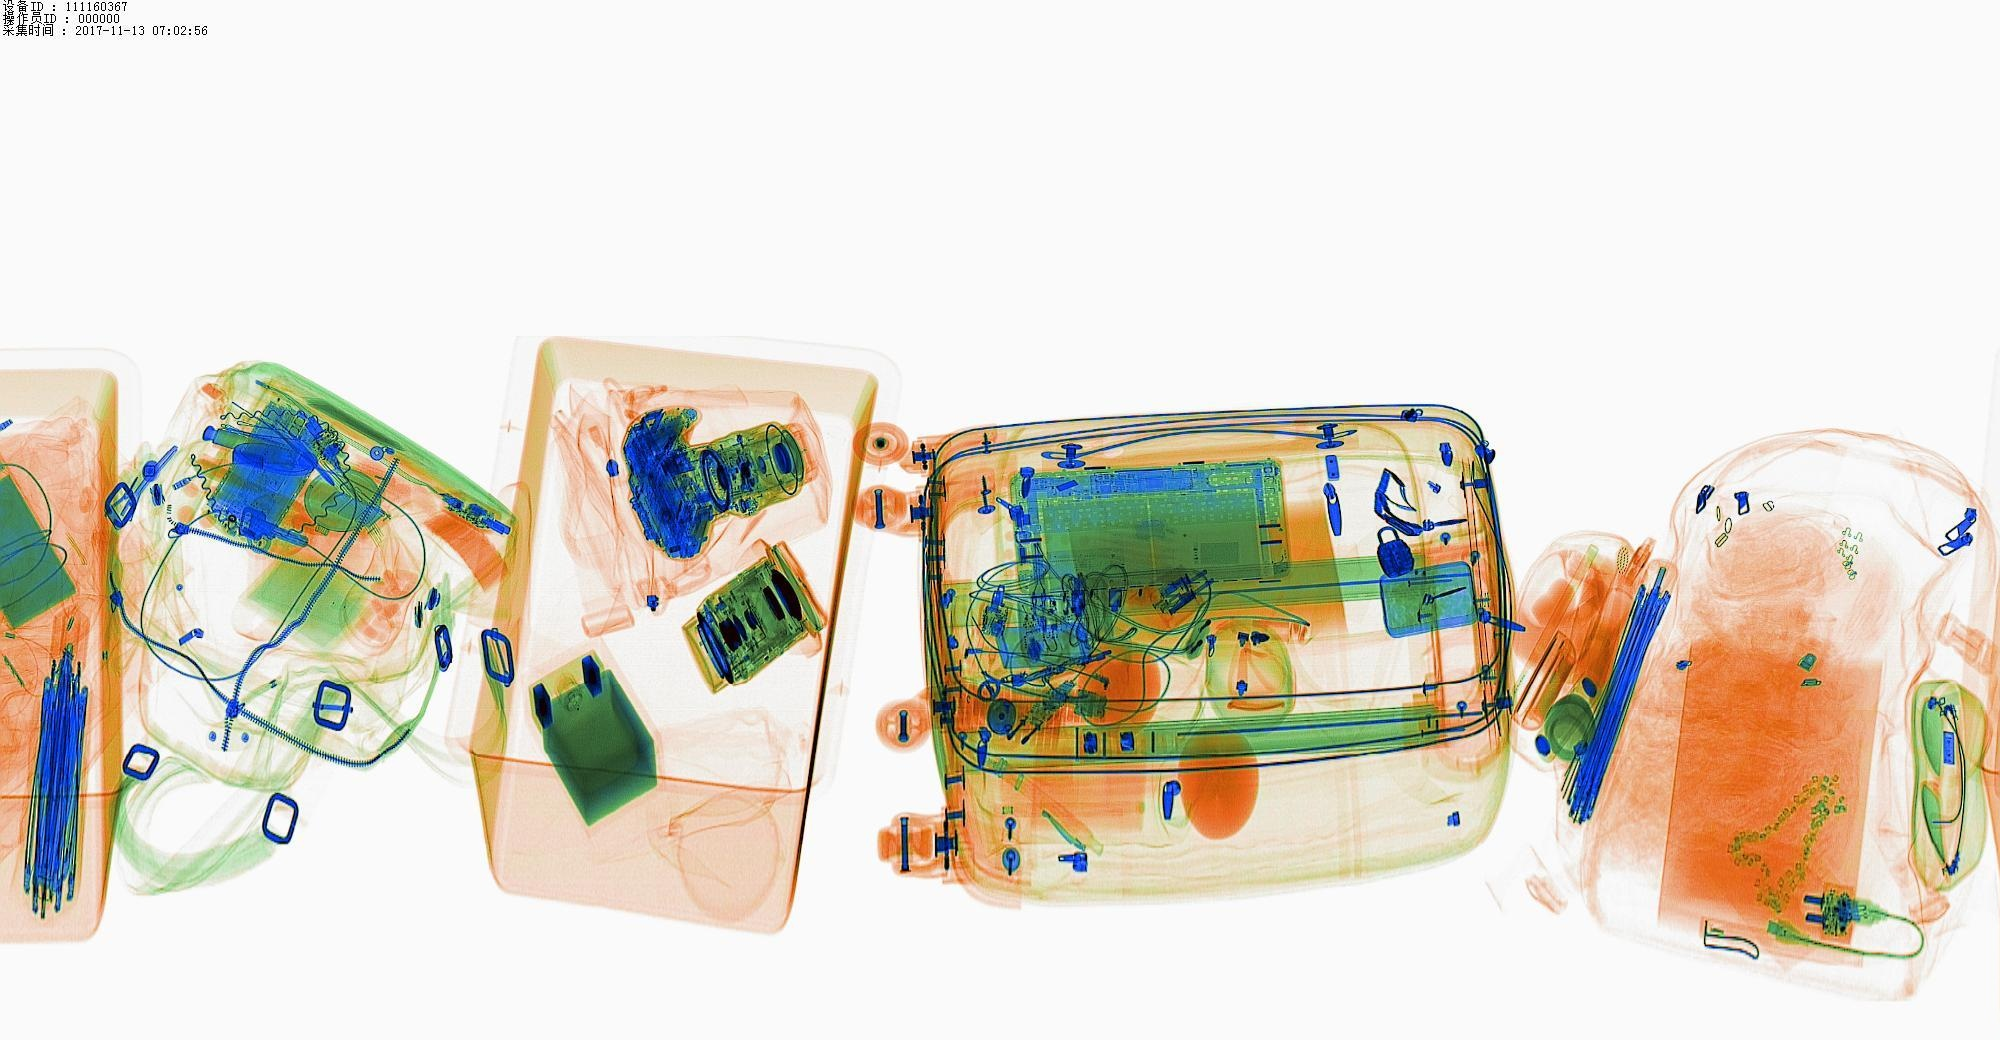coreless: (4, 456, 67, 622)
